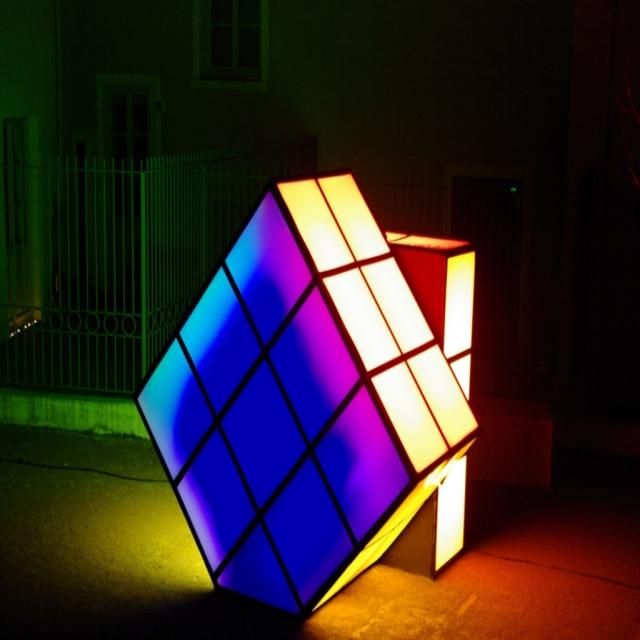Toy: (132, 170, 481, 625)
